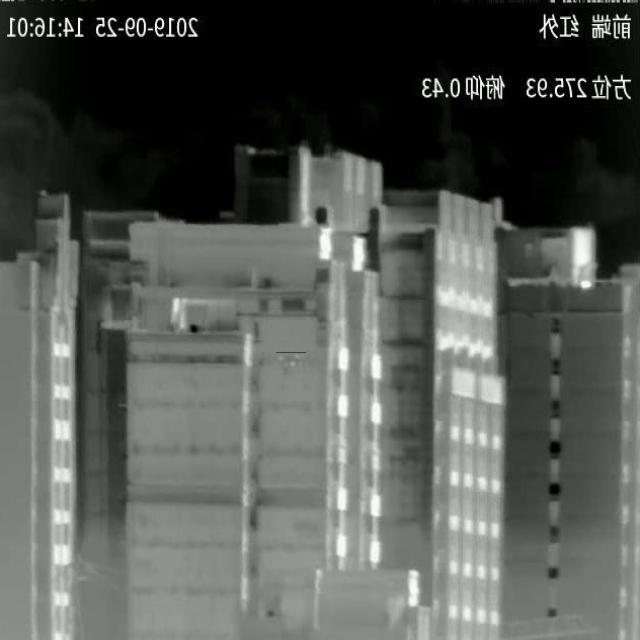drone: (276, 353, 306, 369)
